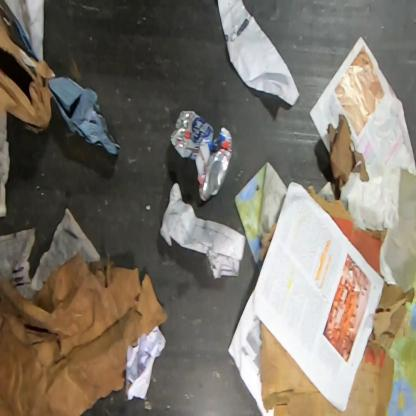cardboard: (259, 282, 415, 415), (304, 185, 388, 280), (0, 0, 55, 135)
metal: (170, 110, 233, 202)
soft_plastic: (48, 76, 121, 156)
